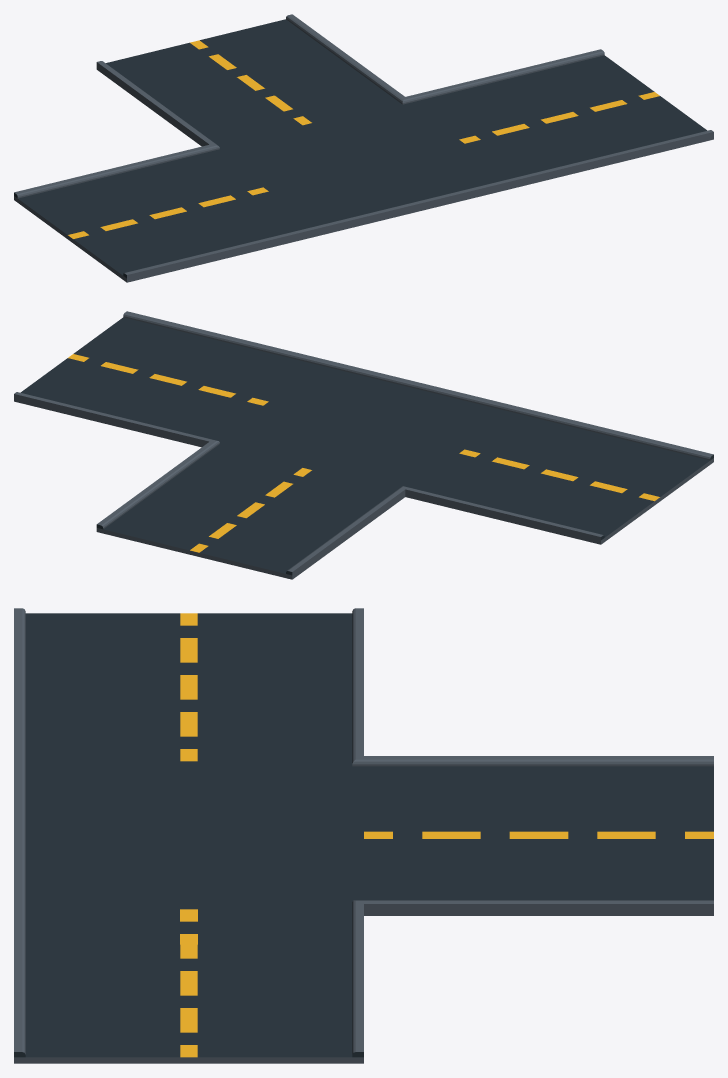
File: Roads, SideWalks.fbx_T-Intersection.fbx
3 views of the same model, one above another, from view 1: azimuth 30°, elevation 25°; view 2: azimuth 150°, elevation 25°; view 3: azimuth 270°, elevation 25° (orthographic). The views are drawn at different scales.
Visible parts, largest first — view 1: T-Intersection; view 2: T-Intersection; view 3: T-Intersection.
Boxes of the visible parts, bbox=[...] form: T-Intersection: bbox=[14, 14, 713, 282]; T-Intersection: bbox=[14, 311, 713, 579]; T-Intersection: bbox=[14, 608, 713, 1063].
Bounding box in the file's own units: 4800 × 7200 × 90.
